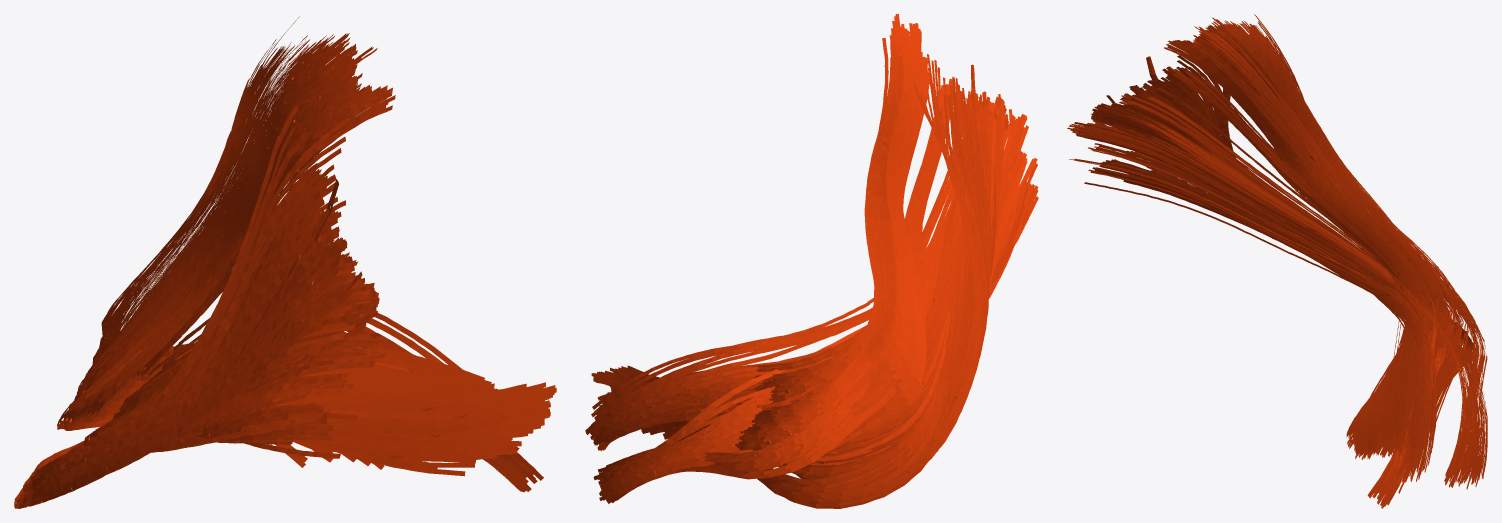
3 views of the same model, side by side, from view 1: azimuth 30°, elevation 25°; view 2: azimuth 150°, elevation 25°; view 3: azimuth 270°, elevation 25° (orthographic). The views are drawn at different scales.
Visible parts, largest first — view 1: tracts; view 2: tracts; view 3: tracts.
Part boxes in pixels (x1,y1,x2,y2): tracts: [14, 16, 556, 508]; tracts: [585, 14, 1038, 508]; tracts: [1067, 14, 1487, 508].
Bounding box in the file's own units: 34.55 × 39.88 × 37.96.
